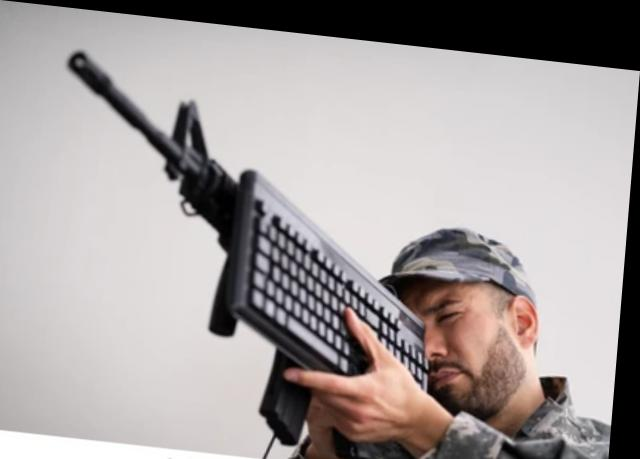other: (333, 228, 583, 458)
